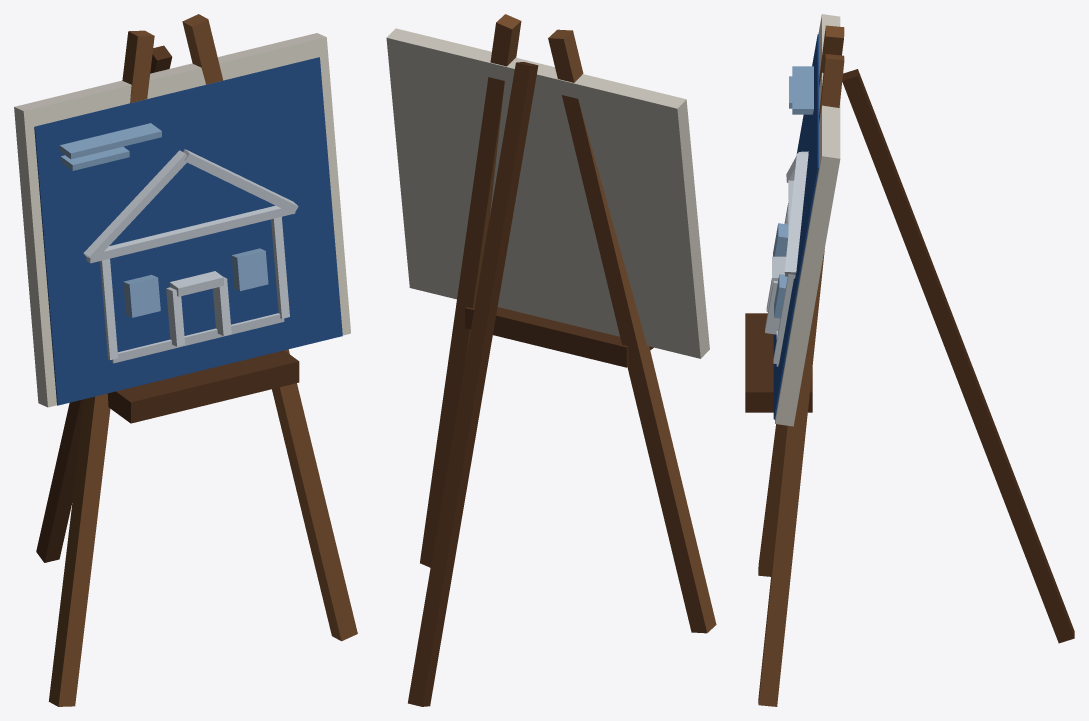
The model's file is c-easel-blueprint.glb.
3 renders of one model, left to right at view 1: azimuth 30°, elevation 25°; view 2: azimuth 150°, elevation 25°; view 3: azimuth 270°, elevation 25°, orthographic. The views are drawn at different scales.
Visible parts, largest first — view 1: c-easel-blueprint; view 2: c-easel-blueprint; view 3: c-easel-blueprint.
Part boxes in pixels (<box>): c-easel-blueprint: <box>14,14,357,706</box>; c-easel-blueprint: <box>386,14,716,706</box>; c-easel-blueprint: <box>745,14,1074,706</box>.
Size of the model in its own units: 0.45 by 0.8823 by 0.4406.
